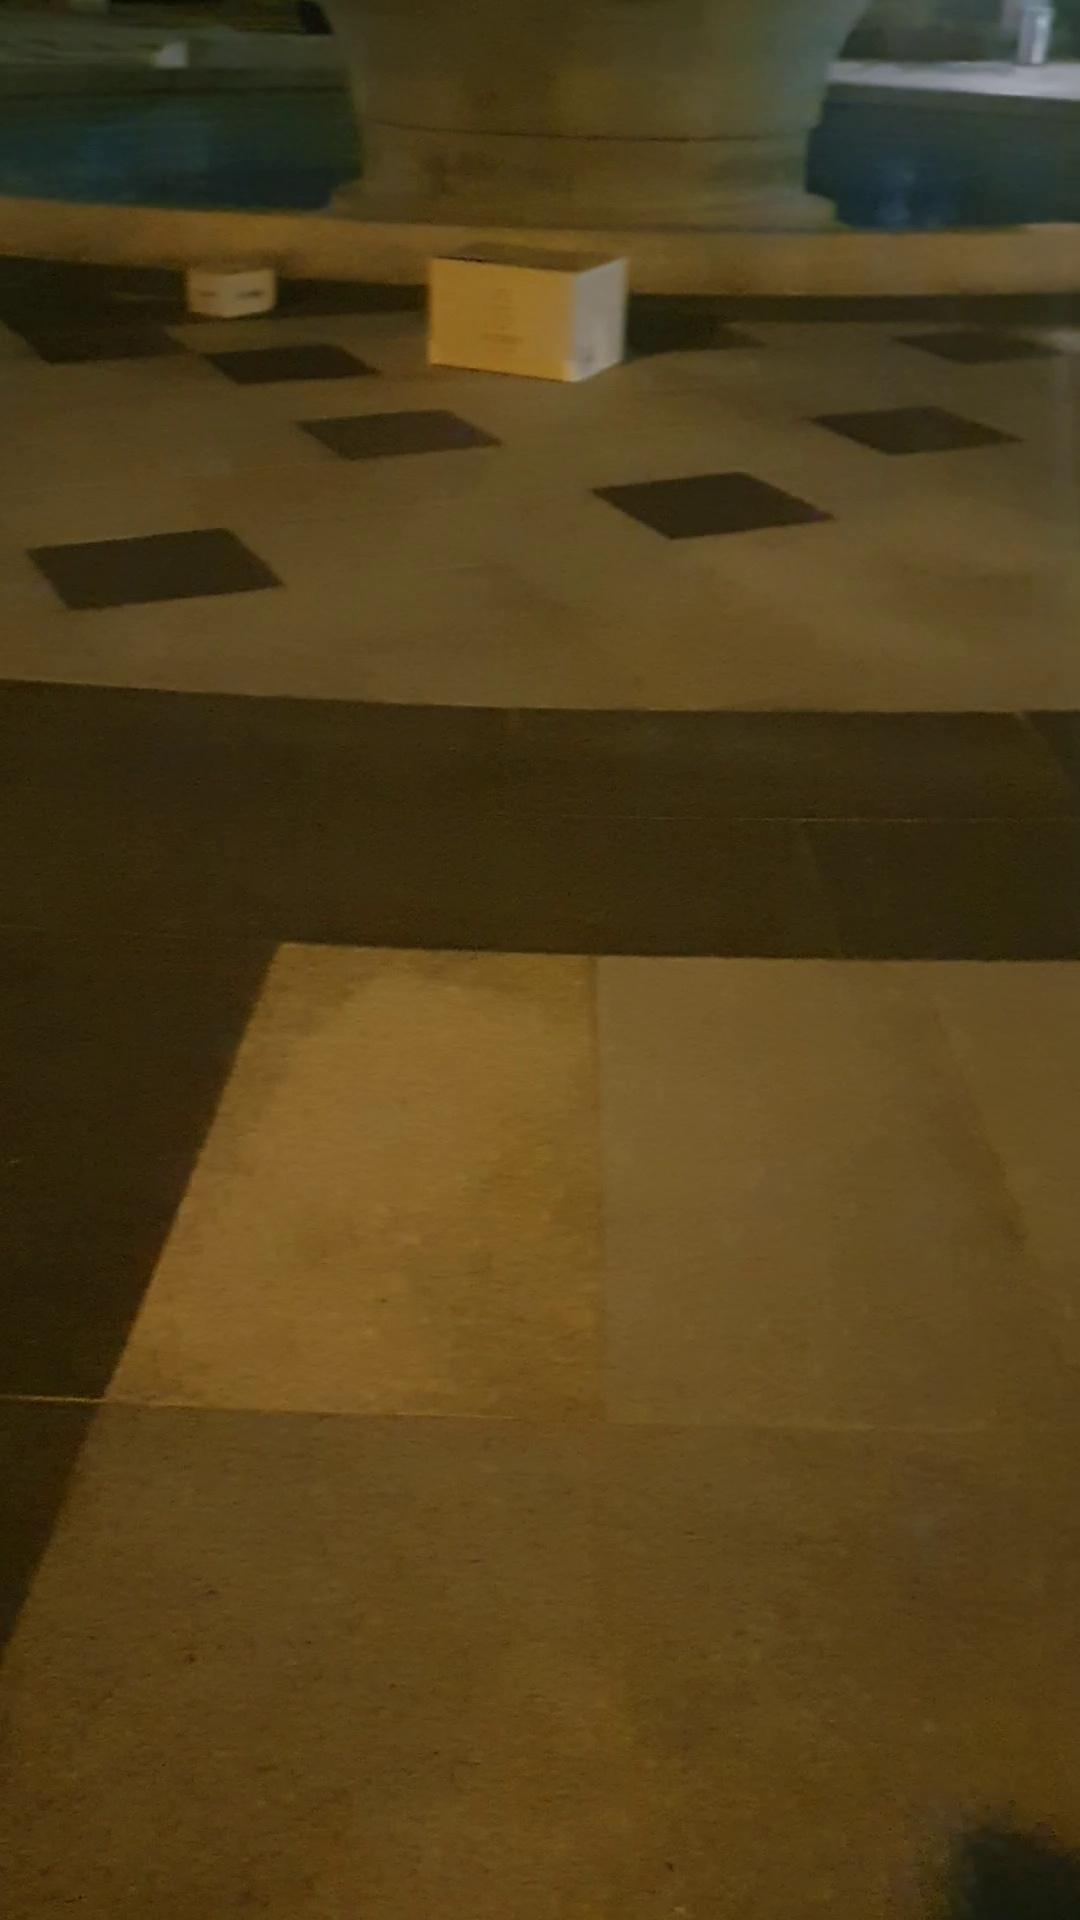Box: (407, 220, 645, 425), (191, 240, 285, 342)
